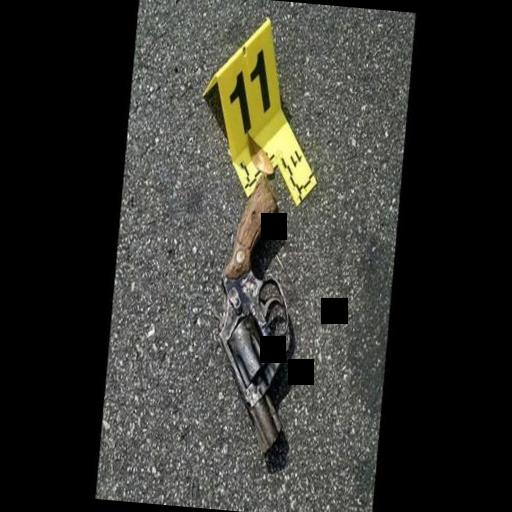Handgun: (190, 167, 320, 465)
